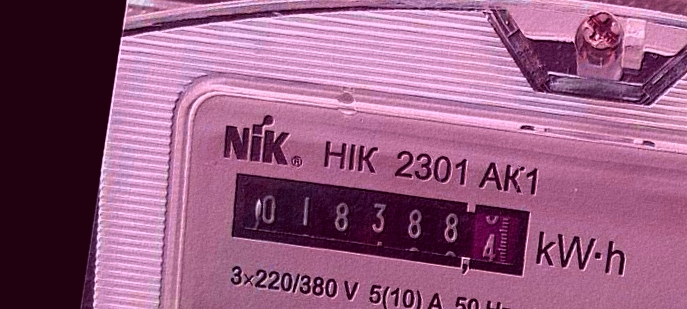0: (256, 190, 281, 229)
1: (294, 191, 317, 230)
3: (367, 200, 392, 237)
4: (477, 228, 502, 264)
8: (329, 197, 355, 236), (438, 208, 464, 247), (402, 206, 427, 244)
screen: (217, 157, 545, 294)
